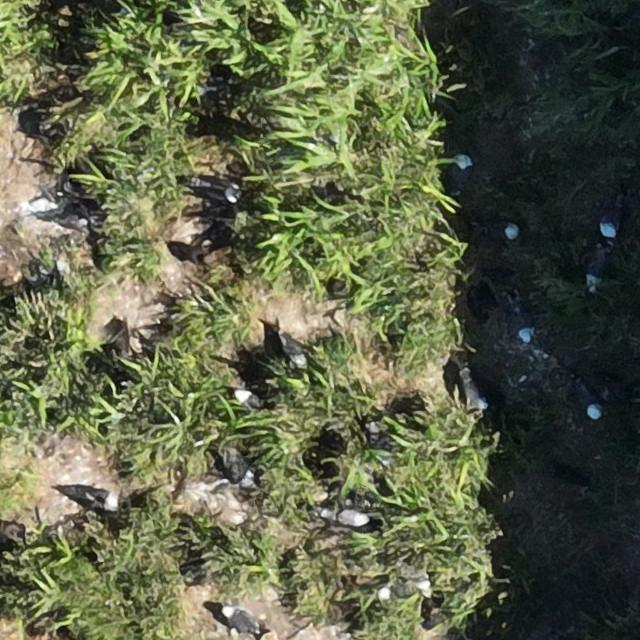umineko: (601, 185, 630, 239), (584, 246, 612, 295), (459, 362, 484, 408), (380, 578, 430, 600), (282, 334, 314, 368), (227, 454, 256, 486), (200, 180, 242, 202), (580, 387, 602, 419), (225, 608, 256, 629), (514, 306, 532, 341), (332, 509, 368, 526), (452, 155, 471, 184), (90, 493, 117, 511), (490, 222, 516, 240), (234, 391, 259, 409)
